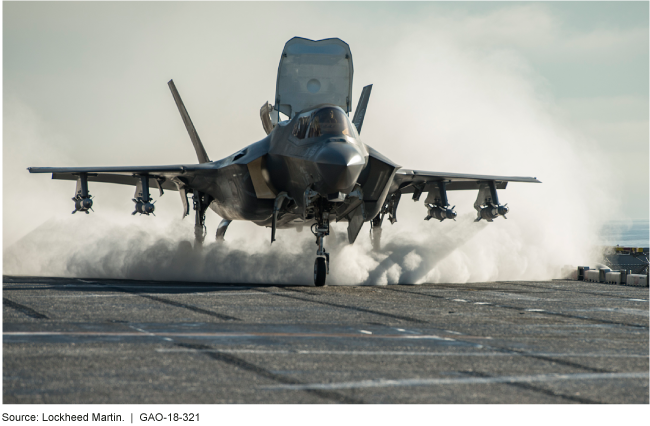F-35 Lightning: (19, 17, 547, 302)
